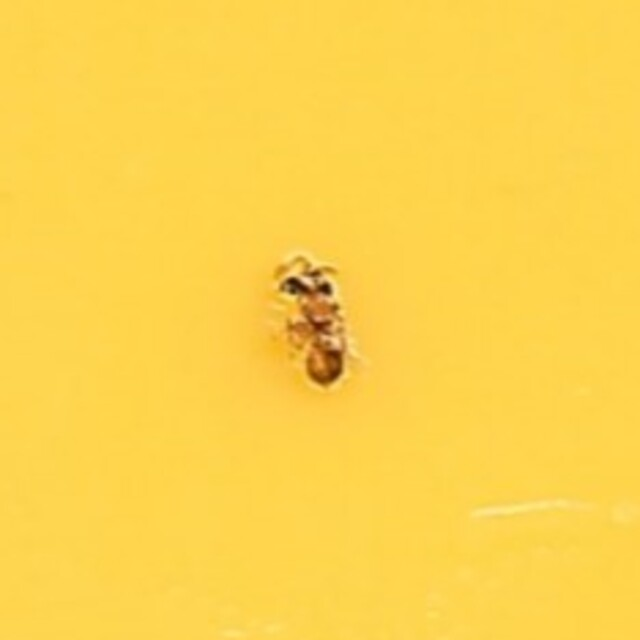Hymenoptera: (274, 252, 366, 388)
